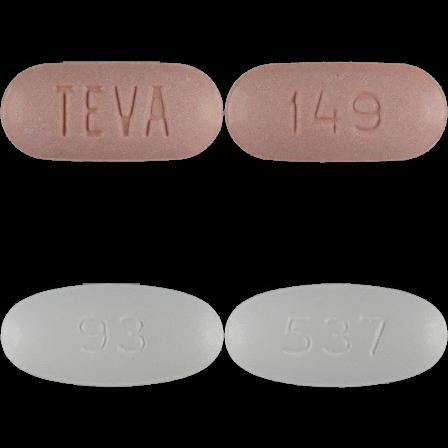53808-0739: (0, 0, 224, 224)
